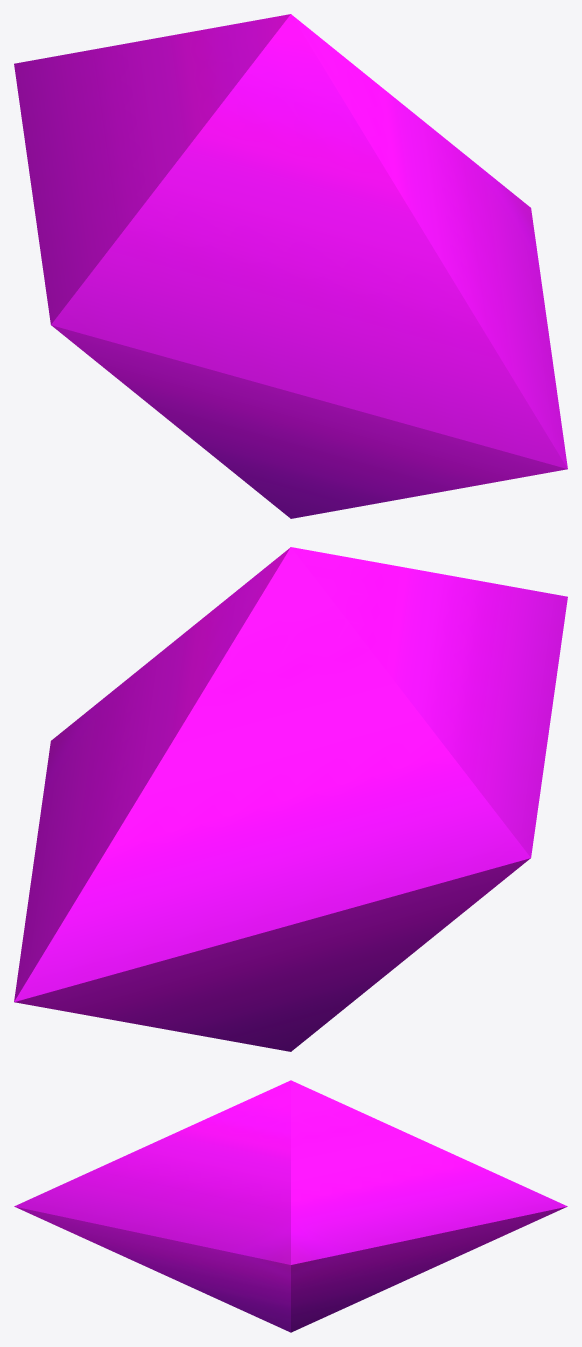
The model's file is 340e6db1-3dfb-47ee-a1bd-be74b2c3721d.glb.
The picture shows the model from 3 angles, top to bottom: view 1: azimuth 30°, elevation 25°; view 2: azimuth 150°, elevation 25°; view 3: azimuth 270°, elevation 25°; orthographic projection. The views are drawn at different scales.
Visible parts, largest first — view 1: Gem.001; view 2: Gem.001; view 3: Gem.001.
Boxes of the visible parts, x1,y1,x2,y2 form: Gem.001: (14, 14, 567, 518); Gem.001: (14, 547, 567, 1051); Gem.001: (14, 1080, 567, 1332).
Size of what is drawn, in the model's own units: 0.1959 by 0.1968 by 0.3914.
1 material, 1 textured.
